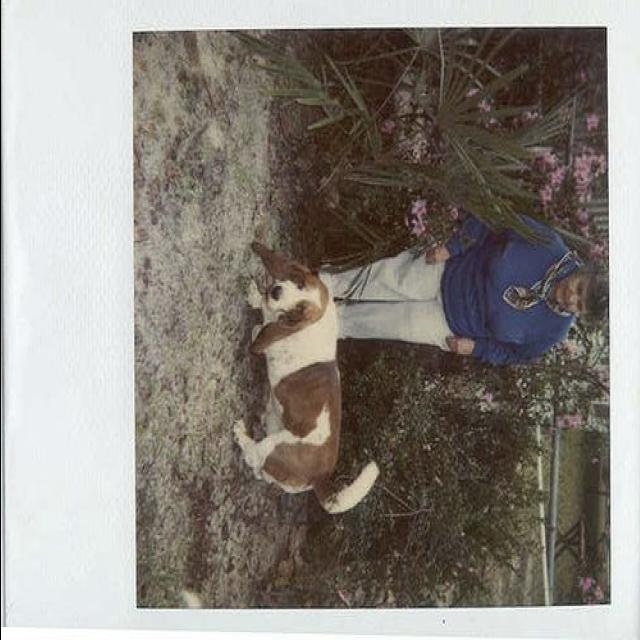basset: (234, 239, 380, 519)
